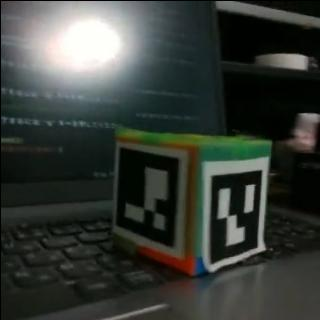armor: (110, 140, 186, 256), (196, 156, 266, 272)
robot: (110, 128, 272, 277)
